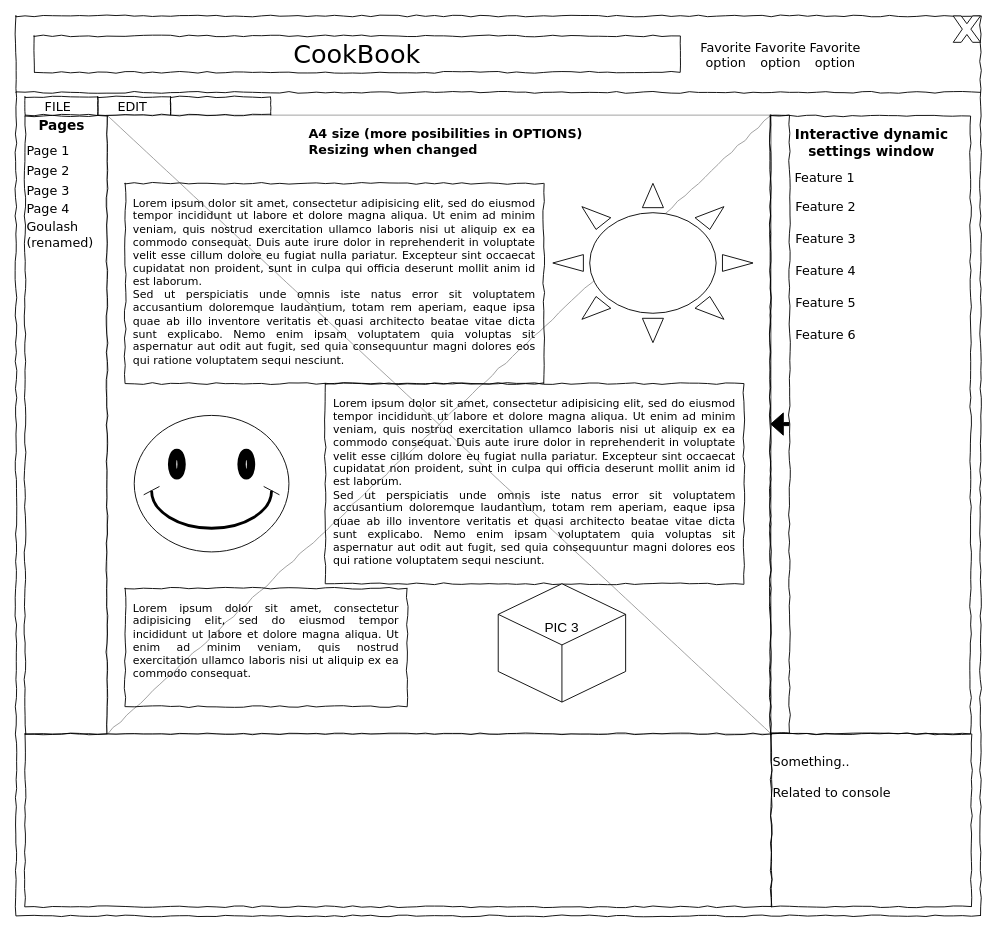
The diagram is 996 pixels wide and 932 high, and some of its shapes have lost their labels. The shapes that lost their labels are listed below. From the top down, each one's centre as x and y in pixels, then its label:
At [220,105]: "OPTIONS".
At [652,262]: "PIC 1".
At [211,483]: "Pic 2".
At [397,820]: "Console (In Debug/developer mode only)".
